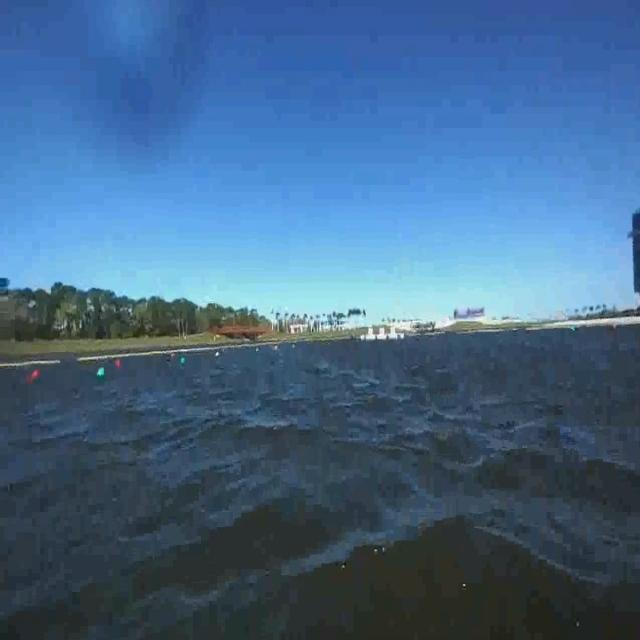green-buoy: (94, 366, 104, 378)
red-buoy: (115, 359, 122, 368)
